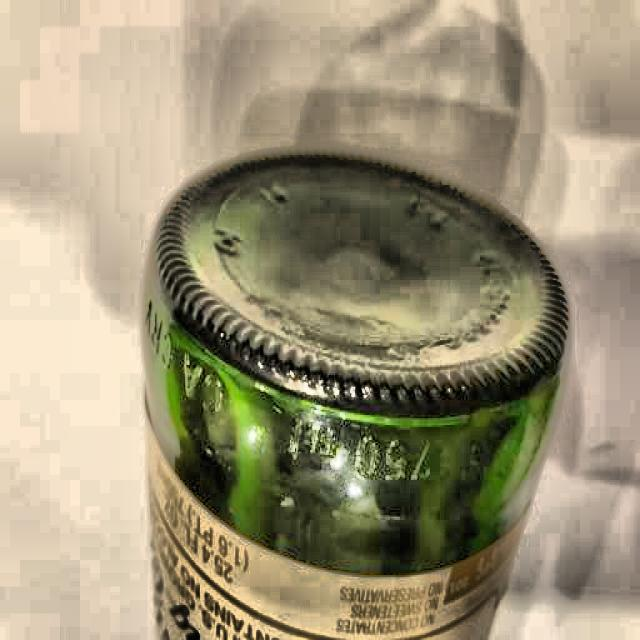glass: (138, 149, 572, 640)
